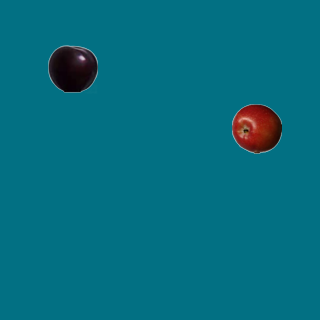Apple Braeburn: (231, 103, 281, 153)
Cherry Wax Black: (47, 43, 97, 93)
